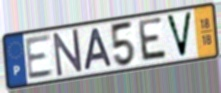5: (109, 19, 137, 69)
A: (82, 26, 114, 72)
E: (24, 32, 56, 82), (137, 16, 169, 64)
N: (51, 27, 84, 79)
V: (164, 10, 194, 60)
